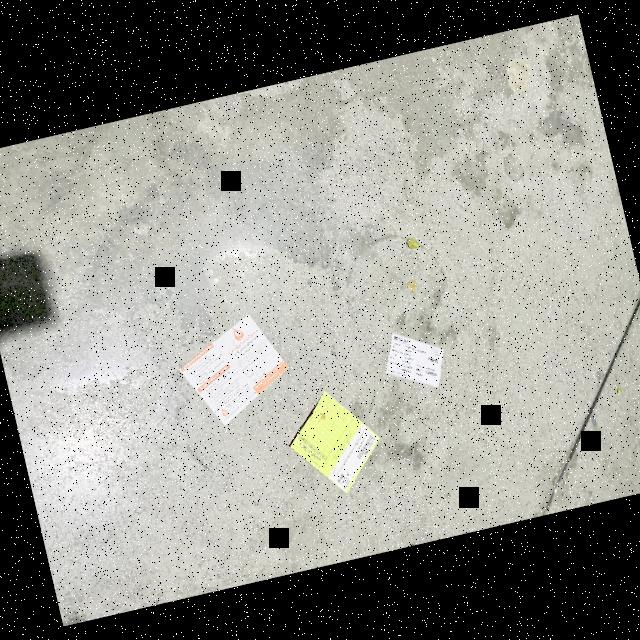scrap_paper: (170, 304, 296, 436), (273, 377, 394, 511), (369, 312, 458, 403)
